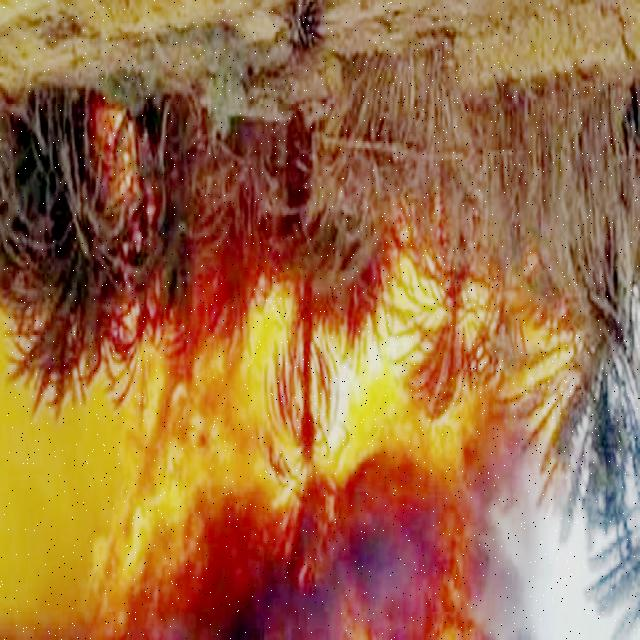api: (89, 308, 477, 616), (482, 319, 569, 439), (106, 117, 149, 235)
asap: (488, 476, 542, 634)
